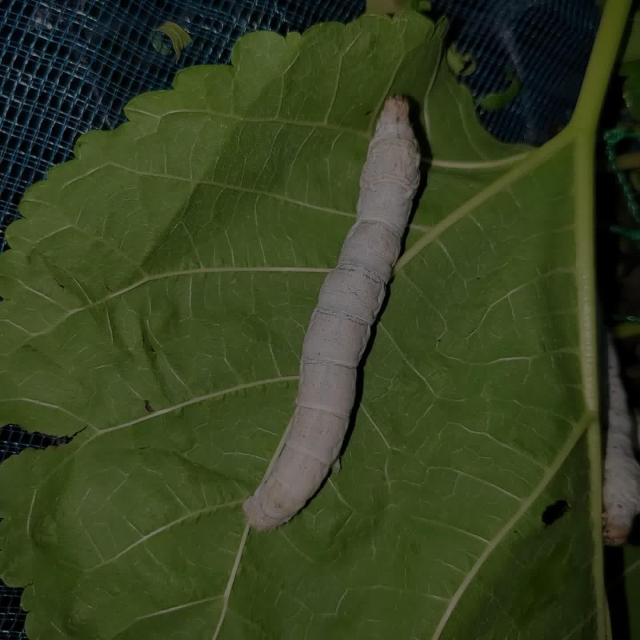Healthy: (230, 76, 478, 533)
